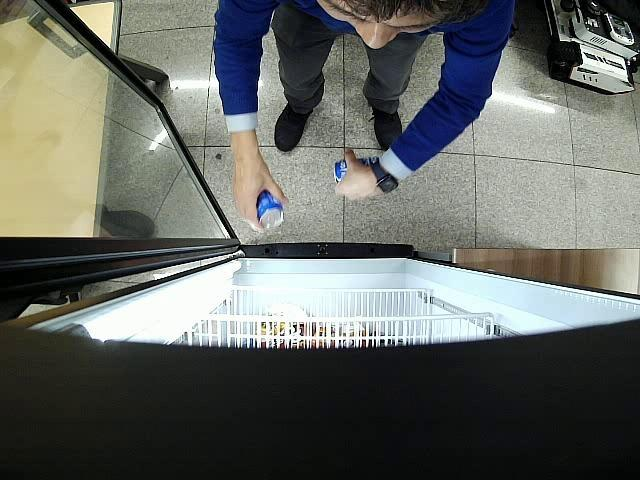13_pocariSweat: (333, 156, 378, 183), (258, 190, 282, 230)
